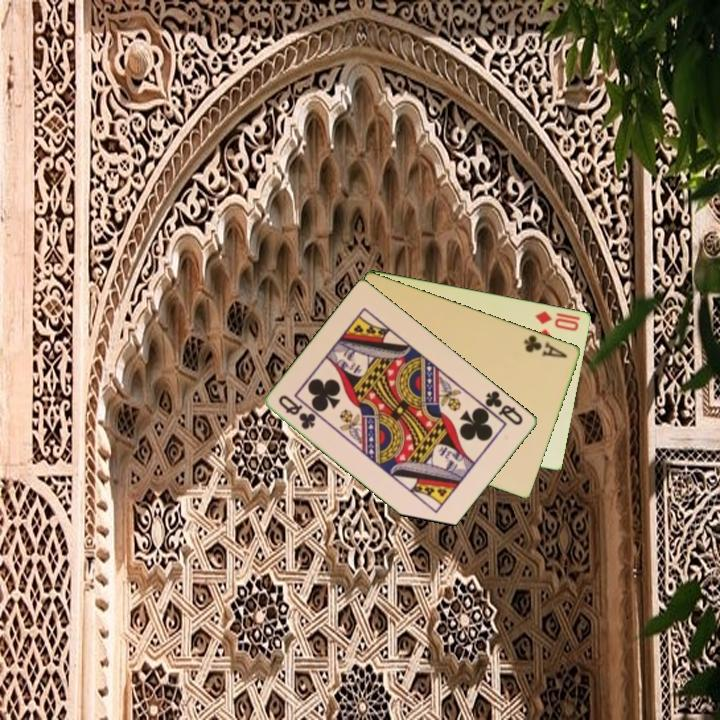10d: (532, 307, 583, 334)
Ac: (520, 331, 570, 361)
Qc: (482, 387, 526, 428), (275, 391, 319, 432)
